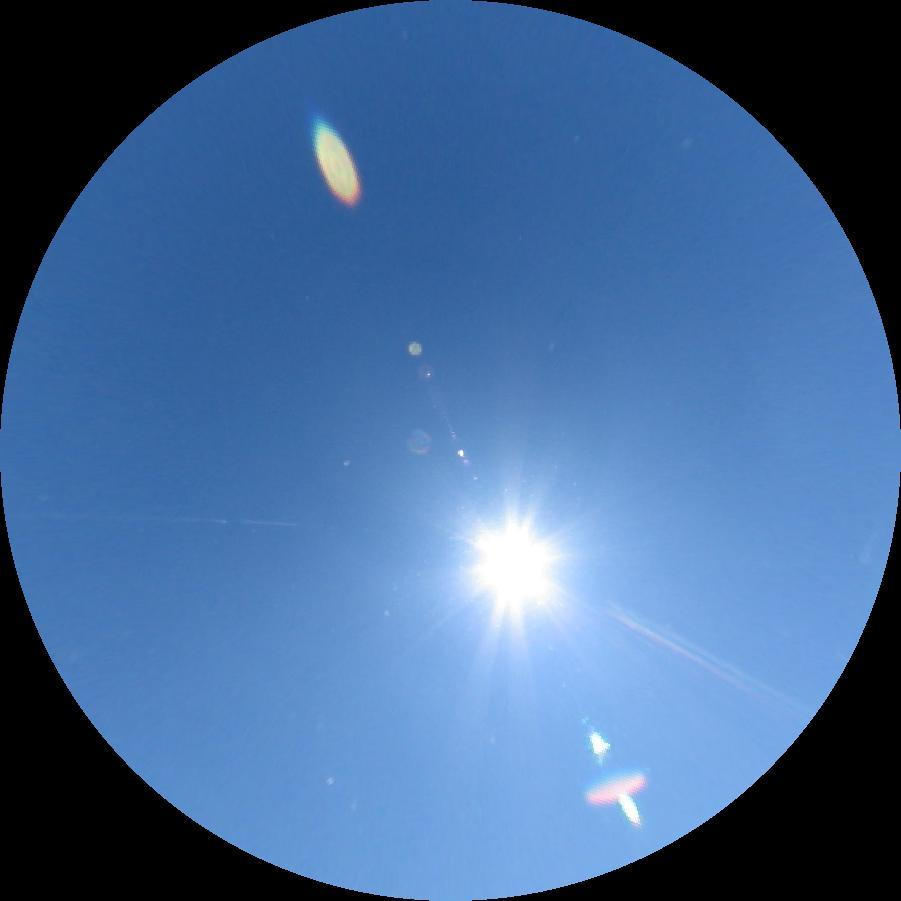contrail young: (855, 534, 884, 568)
parasite: (600, 595, 804, 721), (10, 505, 325, 533)
sun: (454, 503, 573, 626)
